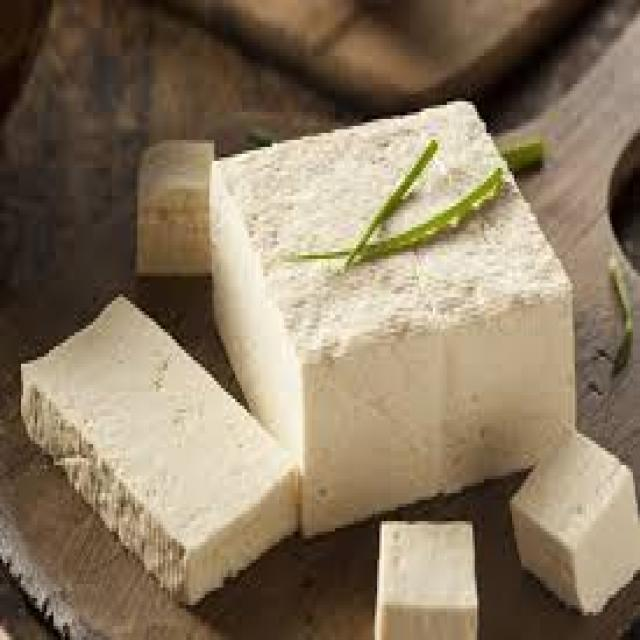tofu: (185, 114, 615, 525), (9, 254, 348, 626)
